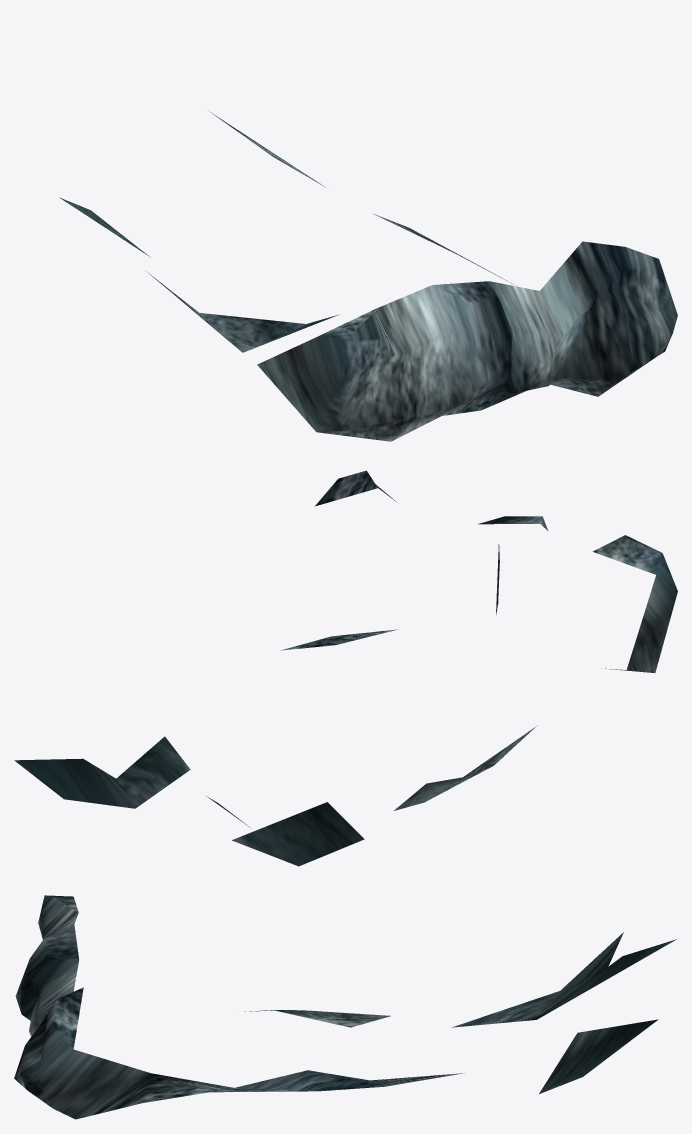
3 views of the same model, one above another, from view 1: azimuth 30°, elevation 25°; view 2: azimuth 150°, elevation 25°; view 3: azimuth 270°, elevation 25° (orthographic). The views are drawn at different scales.
Visible parts, largest first — view 1: model_Object12; view 2: model_Object12; view 3: model_Object12.
Part boxes in pixels (box(x1,y1,x2,y2)): model_Object12: box(59, 111, 677, 441); model_Object12: box(14, 470, 677, 866); model_Object12: box(14, 895, 676, 1119).
Bounding box in the file's own units: 4.64 × 1.94 × 8.59.
1 material, 1 textured.
